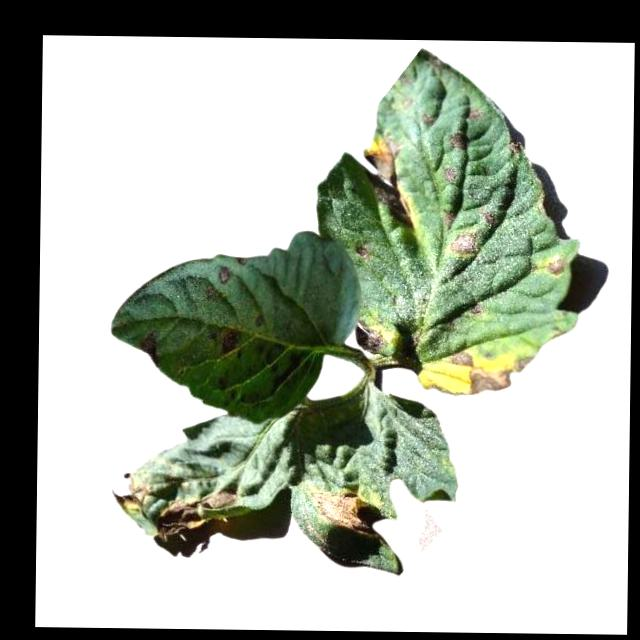Early_blight: (448, 344, 536, 397), (153, 489, 238, 540), (310, 486, 376, 535), (109, 472, 154, 515), (353, 320, 389, 356), (452, 233, 480, 255), (445, 134, 468, 153), (545, 259, 569, 277), (461, 107, 487, 123), (213, 267, 230, 289), (420, 112, 436, 129), (468, 303, 486, 317), (443, 209, 455, 229), (482, 212, 497, 227), (444, 169, 456, 185), (356, 245, 367, 260)
